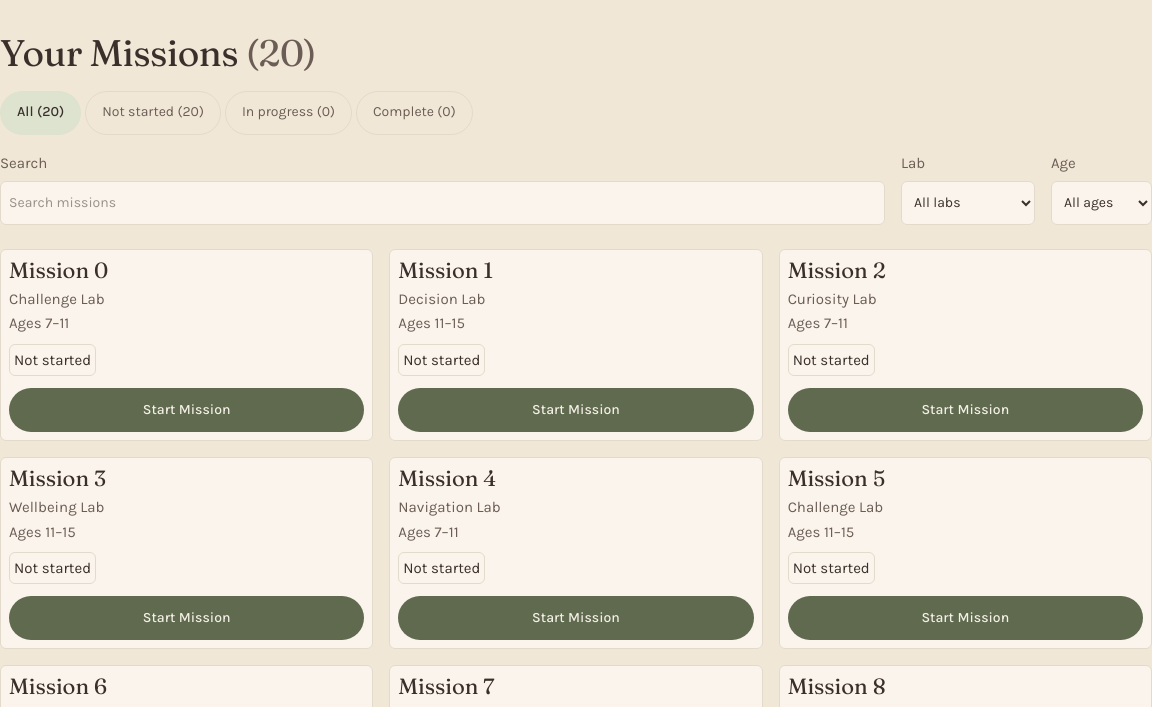
Test: My Missions collection › search that matches nothing says so, and does not look like an empty account
The image size is (1152, 707).
Type "zzzzz" into the search field labelled "Search".
click(442, 203); type("zzzzz")  # box left=0, top=181, right=885, bottom=225
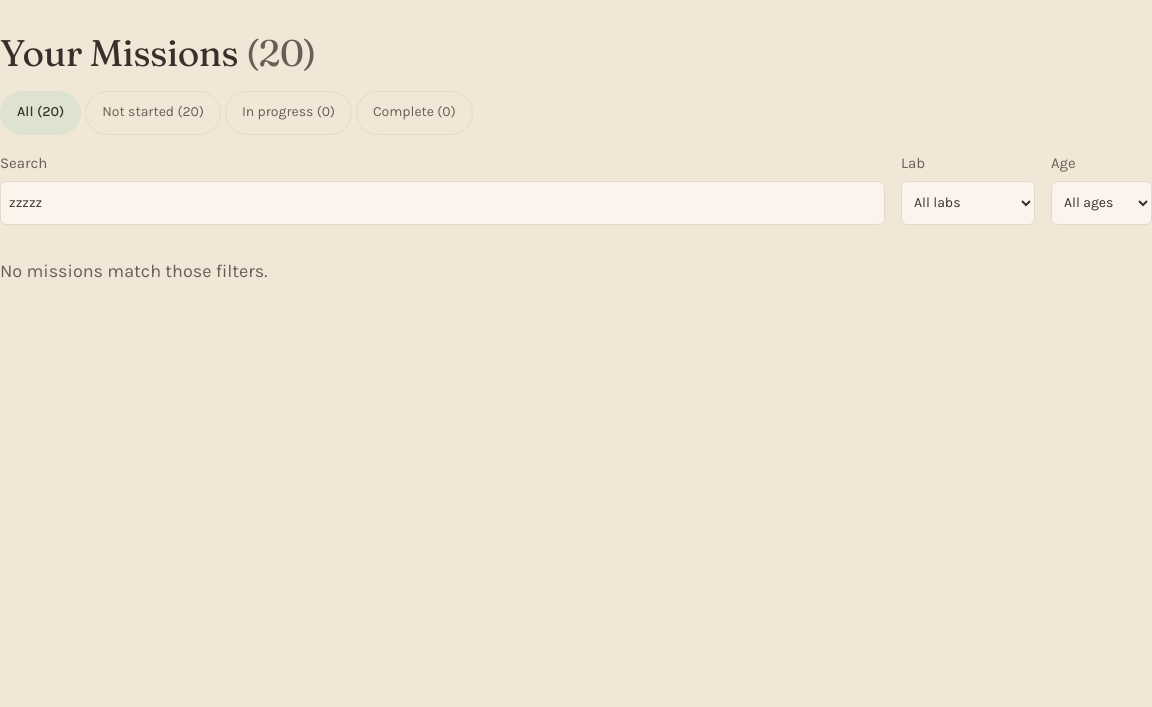
Check: the text "No missions match those filters." is shown, box left=0, top=260, right=268, bottom=282
